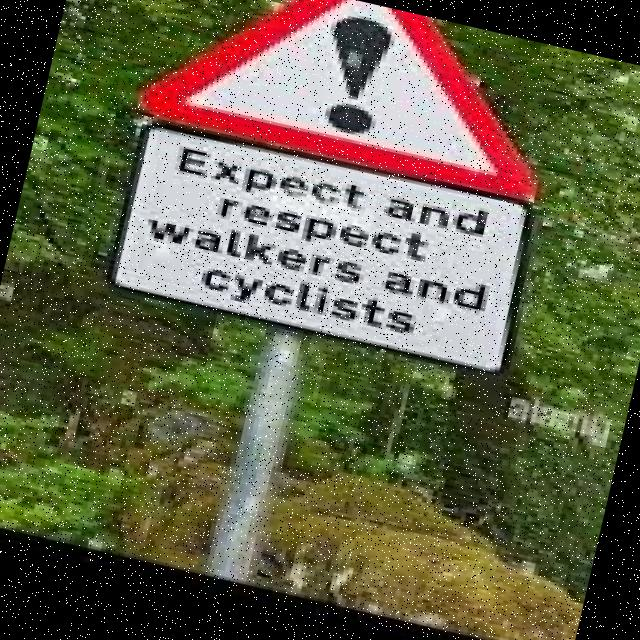warning: (111, 0, 595, 214)
